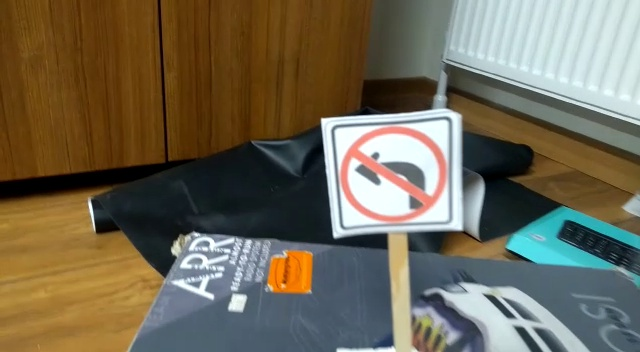sola_donulmez: (335, 115, 454, 230)
